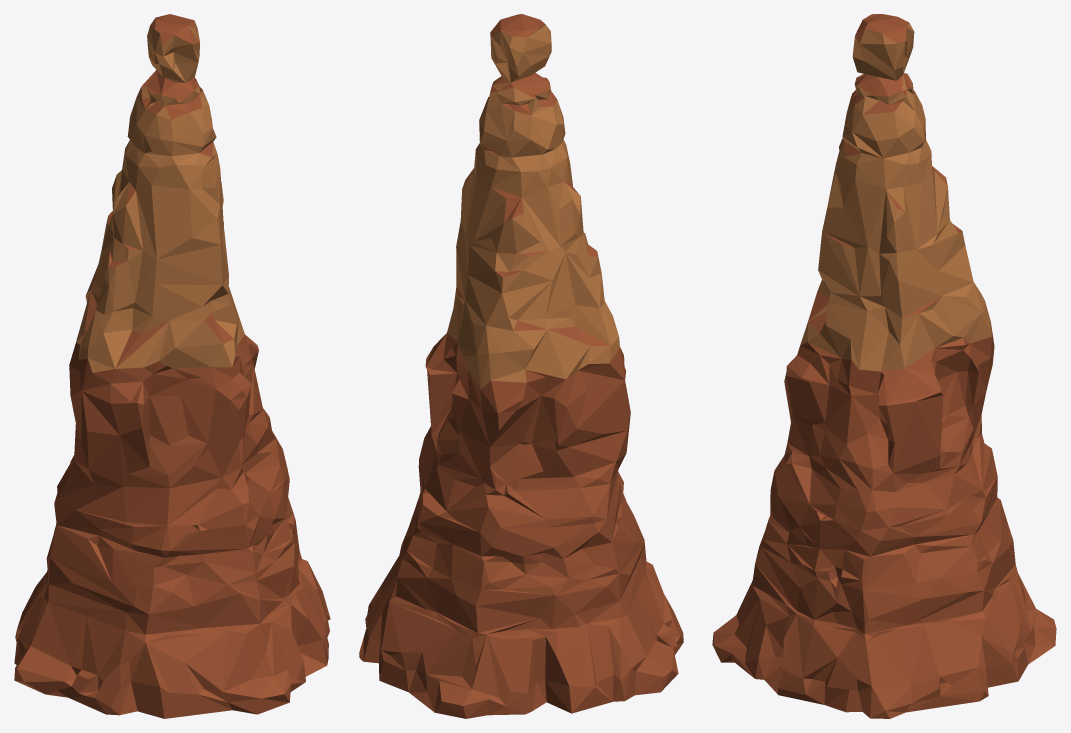
Rendered from canyon-spire-3.glb.
3 renders of one model, left to right at view 1: azimuth 30°, elevation 25°; view 2: azimuth 150°, elevation 25°; view 3: azimuth 270°, elevation 25°, orthographic.
Parts seen in each view (by area): view 1: output_unwrapped; view 2: output_unwrapped; view 3: output_unwrapped.
Part boxes in pixels (x1,y1,x2,y2): output_unwrapped: (14,14,330,718); output_unwrapped: (359,14,683,718); output_unwrapped: (712,14,1056,718).
Bounding box in the file's own units: 3.04 × 6 × 2.99.
